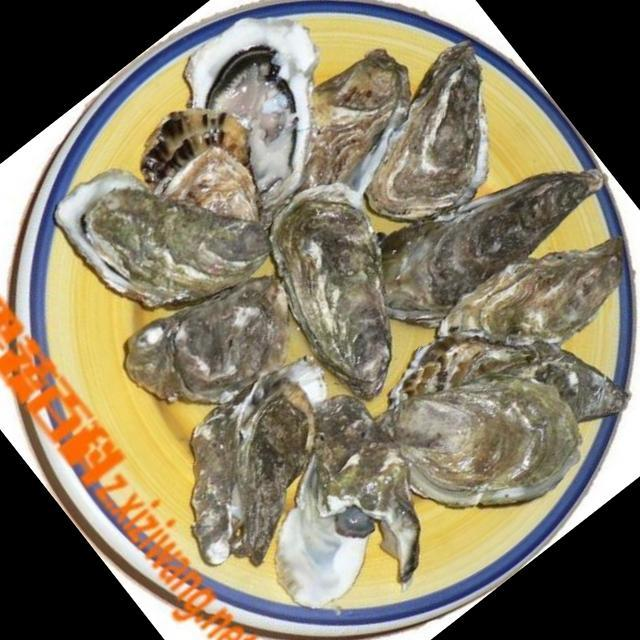Oyster- Indeterminate: (370, 264, 640, 530), (347, 106, 618, 350), (132, 334, 392, 584), (231, 164, 463, 410), (363, 320, 602, 557), (320, 33, 554, 260), (430, 200, 640, 404), (121, 78, 299, 260)
Oyster-Open: (206, 381, 476, 640), (31, 107, 282, 359), (155, 0, 385, 218), (252, 32, 455, 226)
